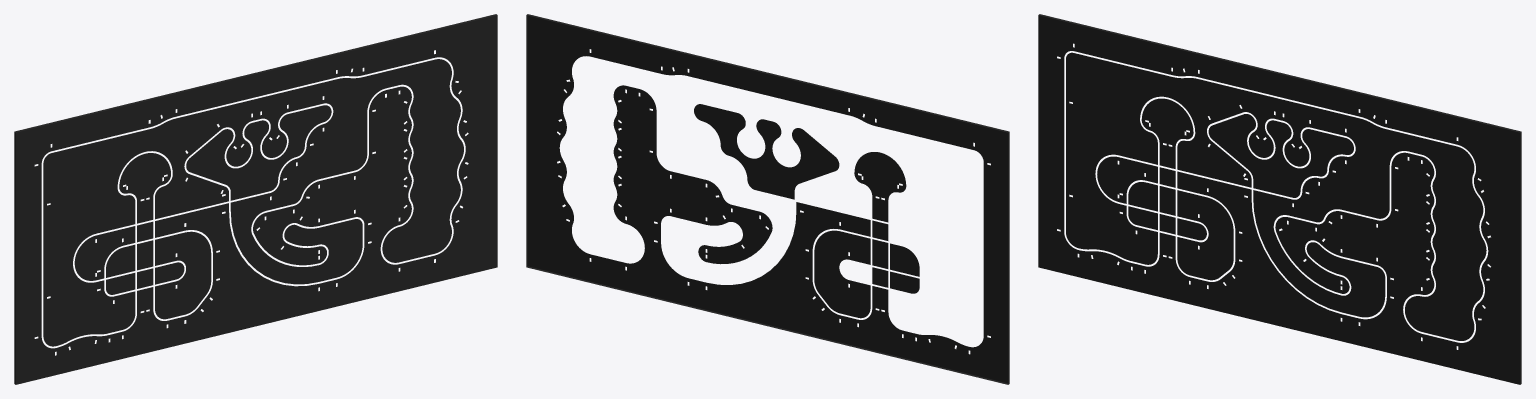
The model's file is board.obj.
3 renders of one model, left to right at view 1: azimuth 30°, elevation 25°; view 2: azimuth 150°, elevation 25°; view 3: azimuth 330°, elevation 25°, orthographic.
Parts seen in each view (by area): view 1: board; view 2: board; view 3: board.
Part boxes in pixels (x1,y1,x2,y2): board: (14,14,497,384); board: (526,14,1009,384); board: (1038,14,1521,384).
Size of the model in its own units: 5.4 by 2.7 by 0.03.
